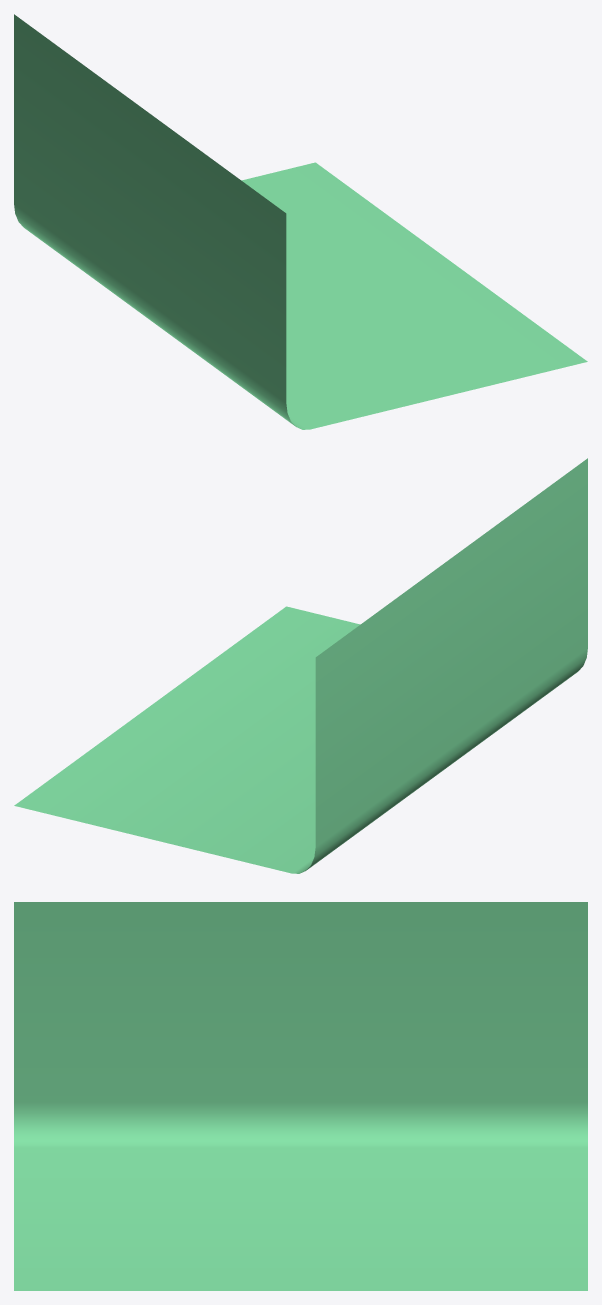
Rendered from Back.fbx.
3 renders of one model, top to bottom at view 1: azimuth 30°, elevation 25°; view 2: azimuth 150°, elevation 25°; view 3: azimuth 270°, elevation 25°, orthographic. The views are drawn at different scales.
Visible parts, largest first — view 1: Back; view 2: Back; view 3: Back.
Boxes of the visible parts, x1,y1,x2,y2 form: Back: (14,14,587,429); Back: (14,458,587,873); Back: (14,902,587,1290).
Size of the model in its own units: 1861 by 1309 by 2912.
